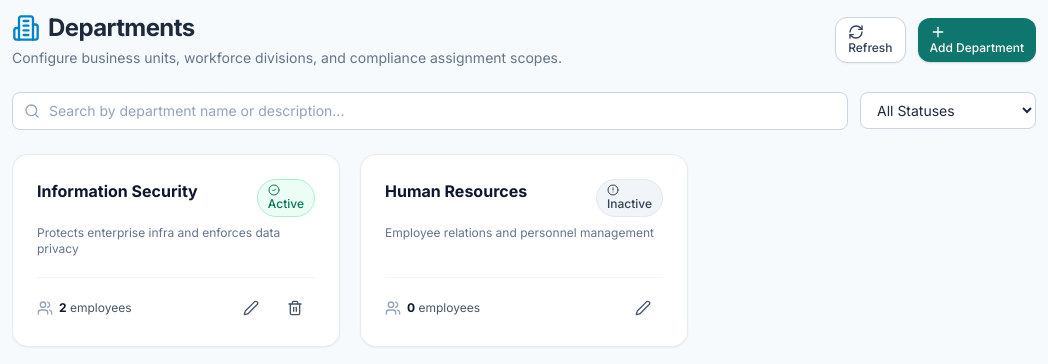
AdminDepartmentsPage › filters departments using search input
The width and height of the screenshot is (1048, 364).
expect the heading "Information Security" is shown: met, box [37,179,198,203]
Type "Resources" into the field named "Search departments" at (430, 111), box [12,92,848,130]
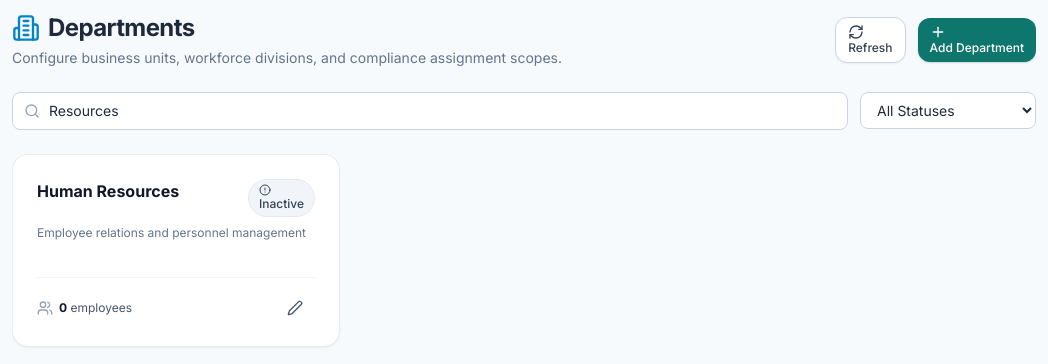
expect the heading "Human Resources" is shown: met, box [37,179,179,203]
expect the heading "Information Security" is gone: met
